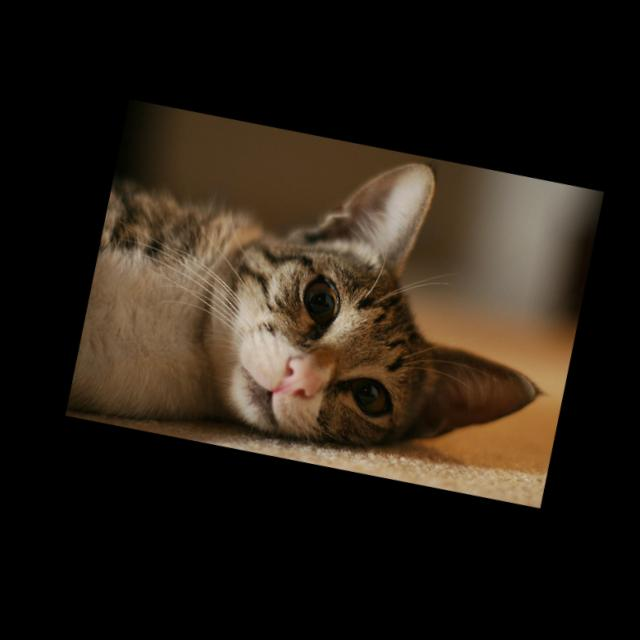animals: (241, 137, 581, 482)
